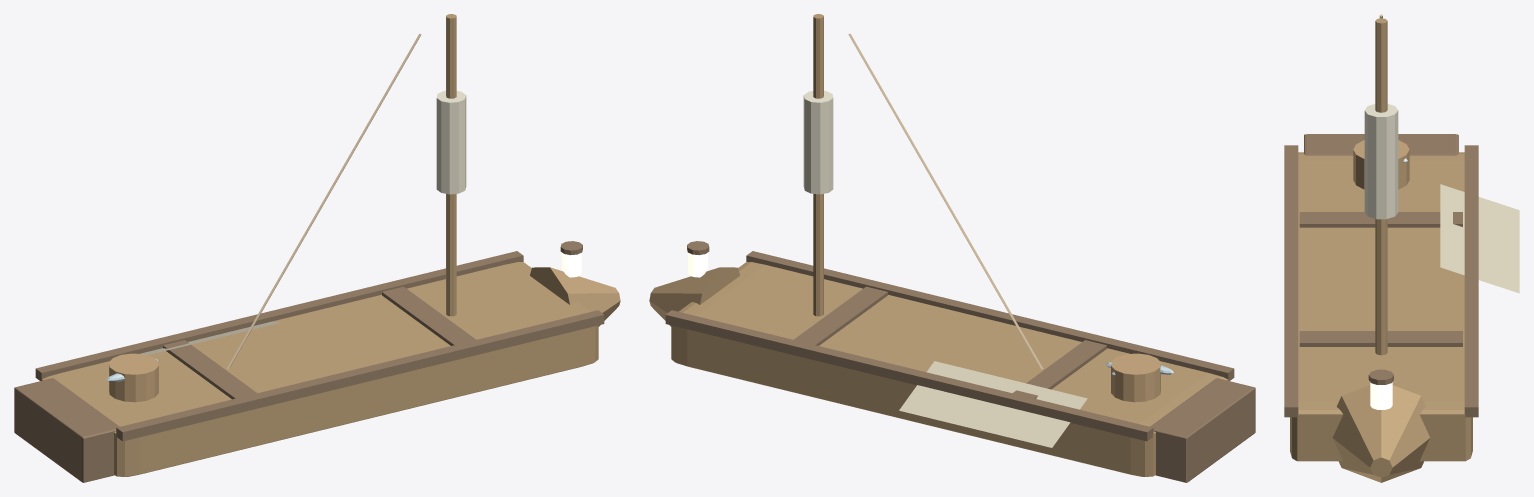
File: fishing_boat.glb
The picture shows the model from 3 angles, left to right: view 1: azimuth 30°, elevation 25°; view 2: azimuth 150°, elevation 25°; view 3: azimuth 270°, elevation 25°; orthographic projection. The views are drawn at different scales.
Visible parts, largest first — view 1: fishing_boat; view 2: fishing_boat; view 3: fishing_boat.
Part boxes in pixels (x1=…): fishing_boat: x1=14, y1=14, x2=620, y2=482; fishing_boat: x1=649, y1=14, x2=1255, y2=482; fishing_boat: x1=1284, y1=14, x2=1519, y2=482.
Bounding box in the file's own units: 2.59 × 1.6 × 0.836.
